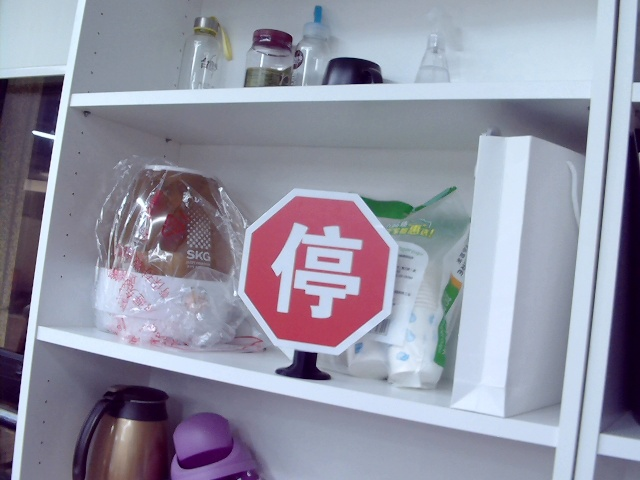stop: (272, 218, 362, 323)
